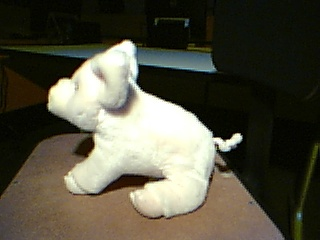piggy: (45, 37, 245, 221)
